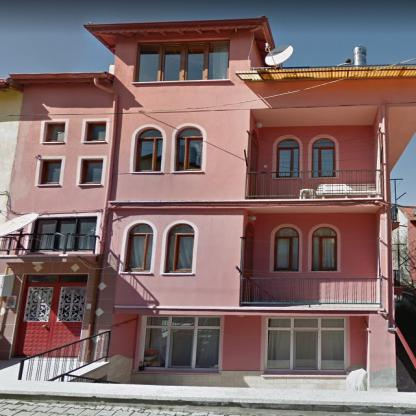door: (15, 285, 86, 357)
window: (140, 316, 222, 372), (265, 316, 347, 372), (134, 40, 228, 80), (33, 215, 95, 250), (123, 224, 155, 272), (166, 225, 194, 273), (134, 128, 162, 173), (174, 127, 202, 171), (311, 226, 337, 272), (274, 227, 300, 272), (312, 138, 334, 178), (276, 140, 299, 178), (80, 158, 105, 184), (38, 158, 60, 183), (27, 274, 88, 282), (84, 120, 106, 141), (44, 121, 64, 142)
